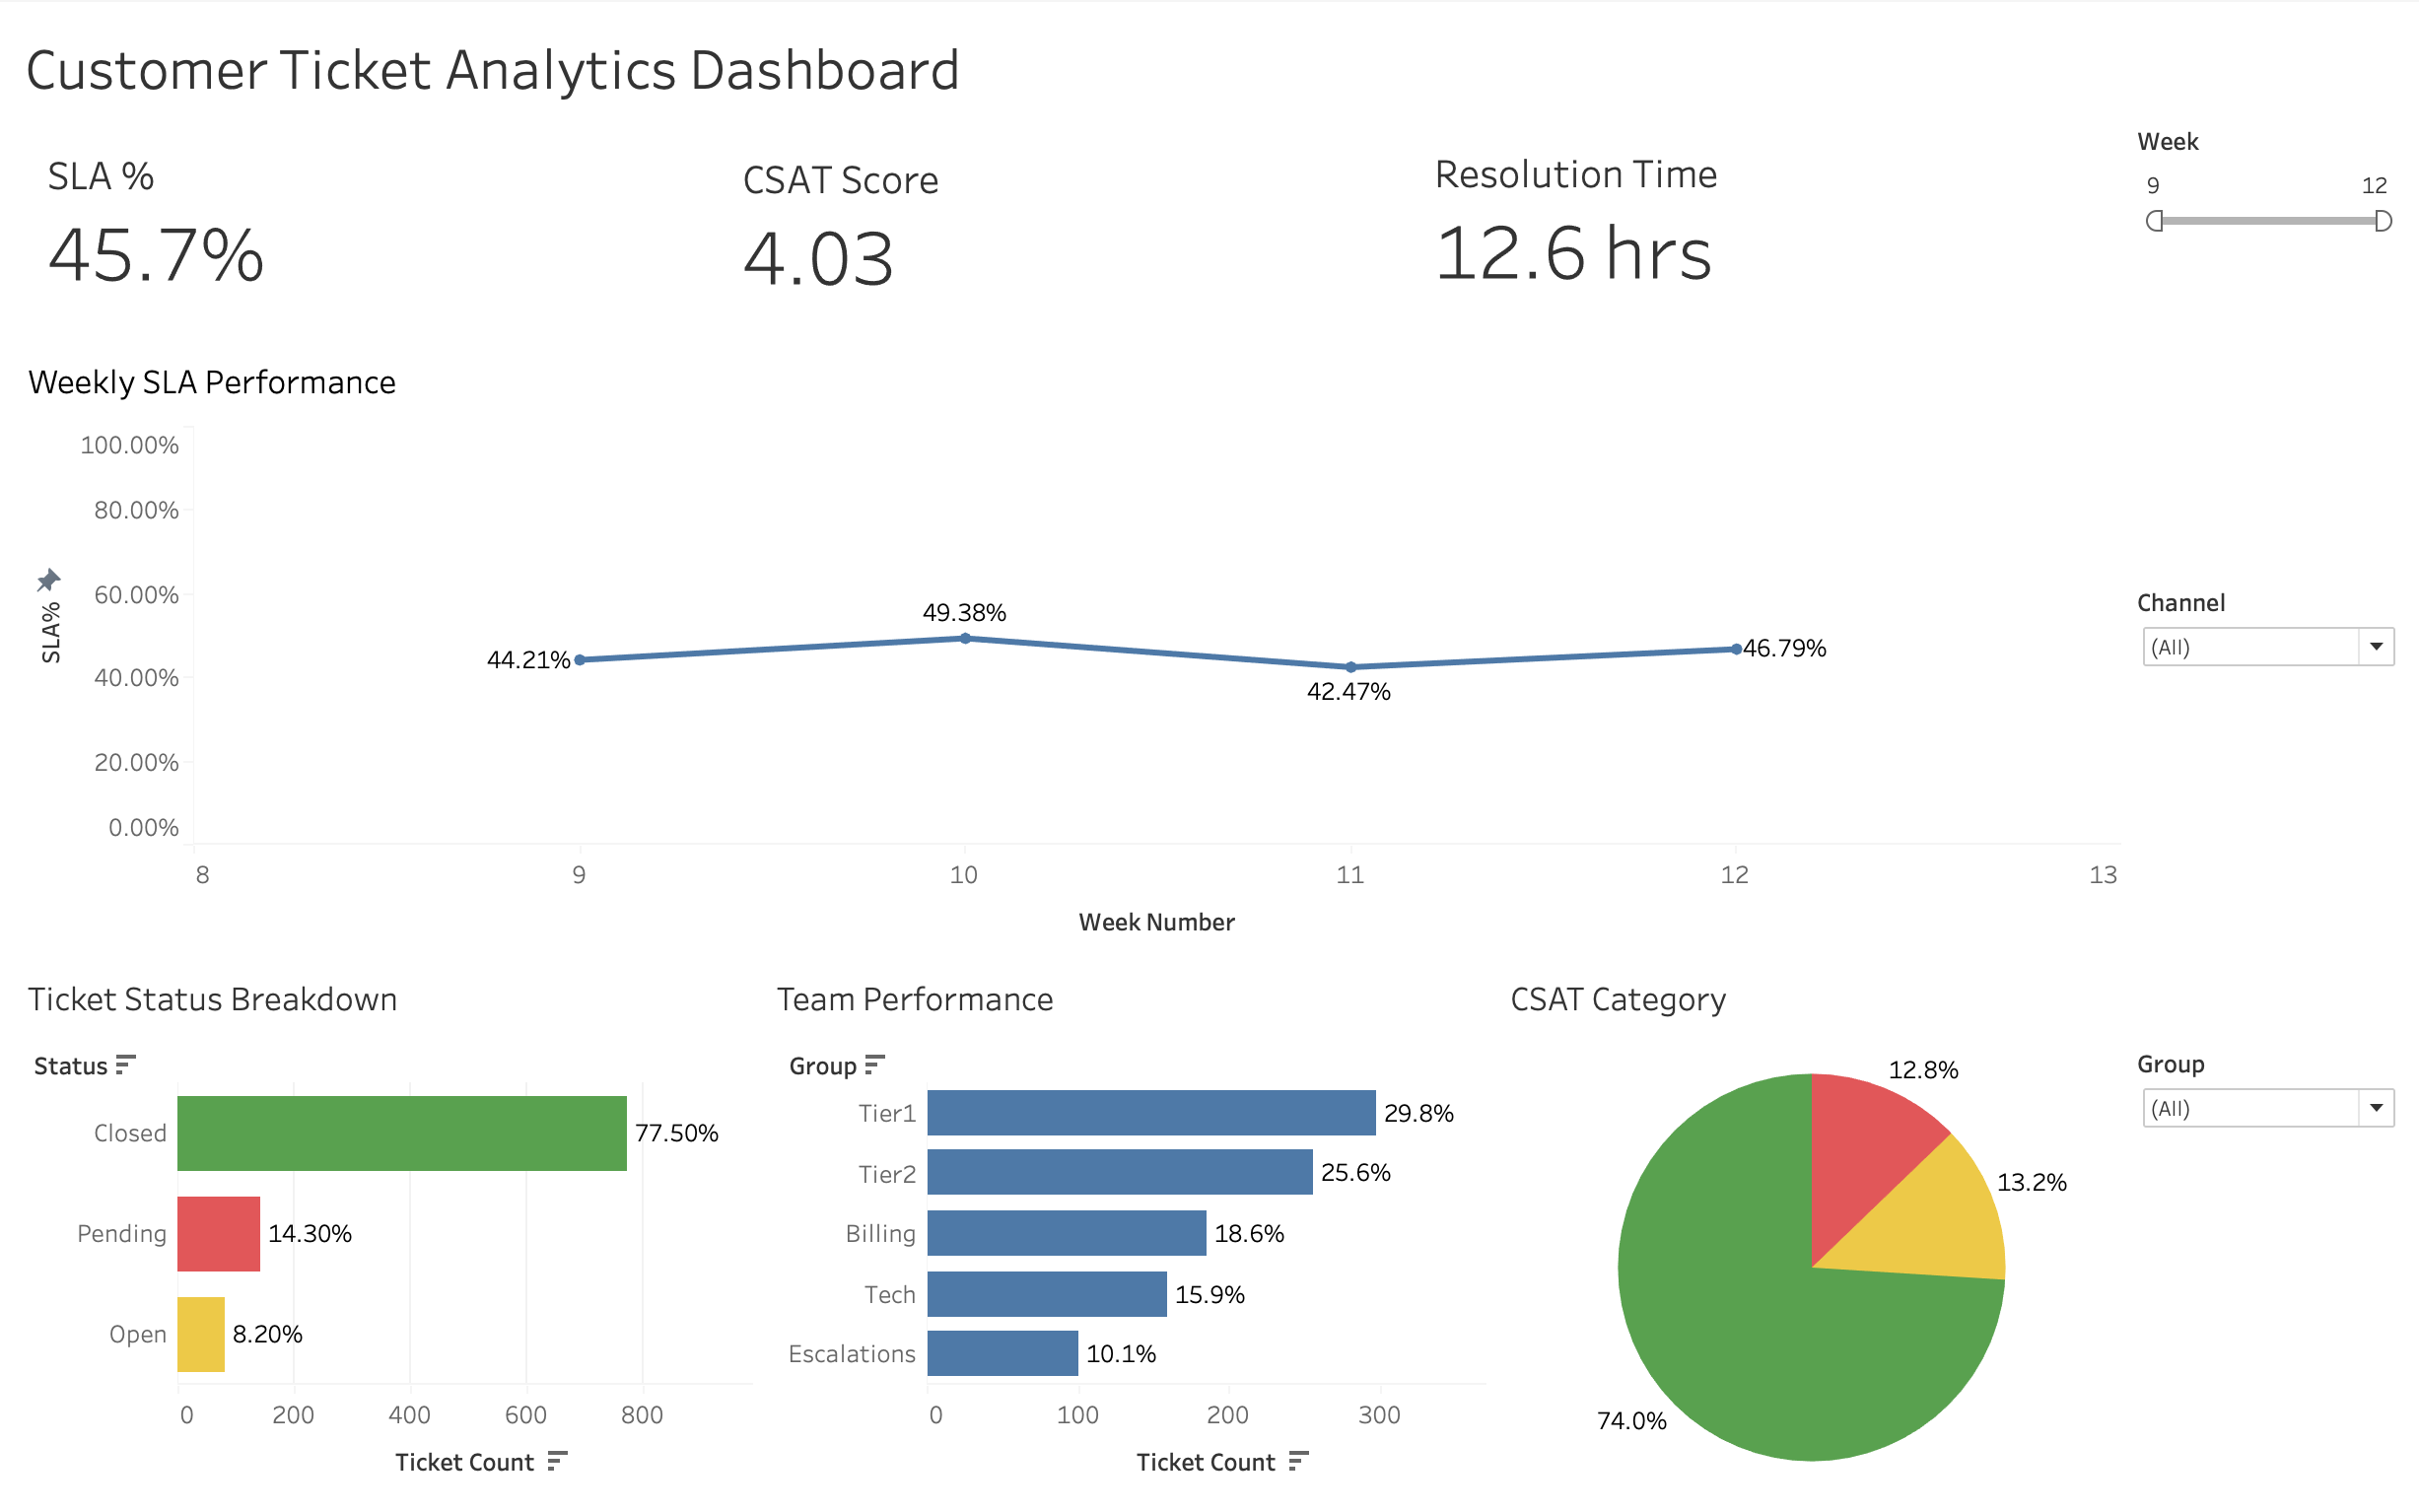

This screenshot's page, from the dashboard's own definition file:
{"tool":"tableau","page":{"name":"Dashboard 1","canvas":[1000,1000],"units":"permille","ordinal":0},"visuals":[{"type":"title","box":[6.5,10.4,987,65.1]},{"type":"filter","title":"Weekly SLA Performance","param":"[federated.04jumtd1nj957f1alzs3u06vhmmb].[none:WeekNumber:qk]","box":[878.2,75.5,115.3,304.7]},{"type":"worksheet","title":"SLA %","mark":"Automatic","box":[14.6,82,285.7,136.7]},{"type":"worksheet","title":"CSAT KPI","mark":"Automatic","box":[300.3,82,284.9,136.7]},{"type":"worksheet","title":"ResolutionTime","mark":"Automatic","box":[585.2,82,284.9,136.7]},{"type":"worksheet","title":"Weekly SLA Performance","mark":"Line","rows":["Calculation_1529957287483453440"],"cols":["WeekNumber"],"box":[6.5,224.8,871.8,407.9]},{"type":"filter","title":"Weekly SLA Performance","param":"[federated.04jumtd1nj957f1alzs3u06vhmmb].[none:Channel:nk]","box":[878.2,380.2,115.3,304.7]},{"type":"worksheet","title":"Ticket Status Breakdown","mark":"Bar","rows":["Status"],"cols":["Ticket_Count"],"box":[6.5,632.7,308.4,356.8]},{"type":"worksheet","title":"Team Performance","mark":"Automatic","rows":["Group"],"cols":["Ticket_Count"],"box":[314.9,632.7,302,356.8]},{"type":"worksheet","title":"CSAT Category","mark":"Pie","box":[616.9,632.7,261.4,356.8]},{"type":"filter","title":"Weekly SLA Performance","param":"[federated.04jumtd1nj957f1alzs3u06vhmmb].[none:Group:nk]","box":[878.2,684.9,115.3,304.7]}]}

Visuals, with their boxes on the dashboard's canvas, which has no fixed pixel size, in thousandths of its width and height (x1, y1, x2, y2). These are canvas units, not pixel positions in the 2419x1512 screenshot, which may show the page scaled, cropped or inside an application window:
title: {"left": 6, "top": 10, "right": 994, "bottom": 76}
"Weekly SLA Performance" filter: {"left": 878, "top": 76, "right": 994, "bottom": 380}
"SLA %" worksheet: {"left": 15, "top": 82, "right": 300, "bottom": 219}
"CSAT KPI" worksheet: {"left": 300, "top": 82, "right": 585, "bottom": 219}
"ResolutionTime" worksheet: {"left": 585, "top": 82, "right": 870, "bottom": 219}
"Weekly SLA Performance" worksheet (Line marks): {"left": 6, "top": 225, "right": 878, "bottom": 633}
"Weekly SLA Performance" filter: {"left": 878, "top": 380, "right": 994, "bottom": 685}
"Ticket Status Breakdown" worksheet (Bar marks): {"left": 6, "top": 633, "right": 315, "bottom": 990}
"Team Performance" worksheet: {"left": 315, "top": 633, "right": 617, "bottom": 990}
"CSAT Category" worksheet (Pie marks): {"left": 617, "top": 633, "right": 878, "bottom": 990}
"Weekly SLA Performance" filter: {"left": 878, "top": 685, "right": 994, "bottom": 990}
